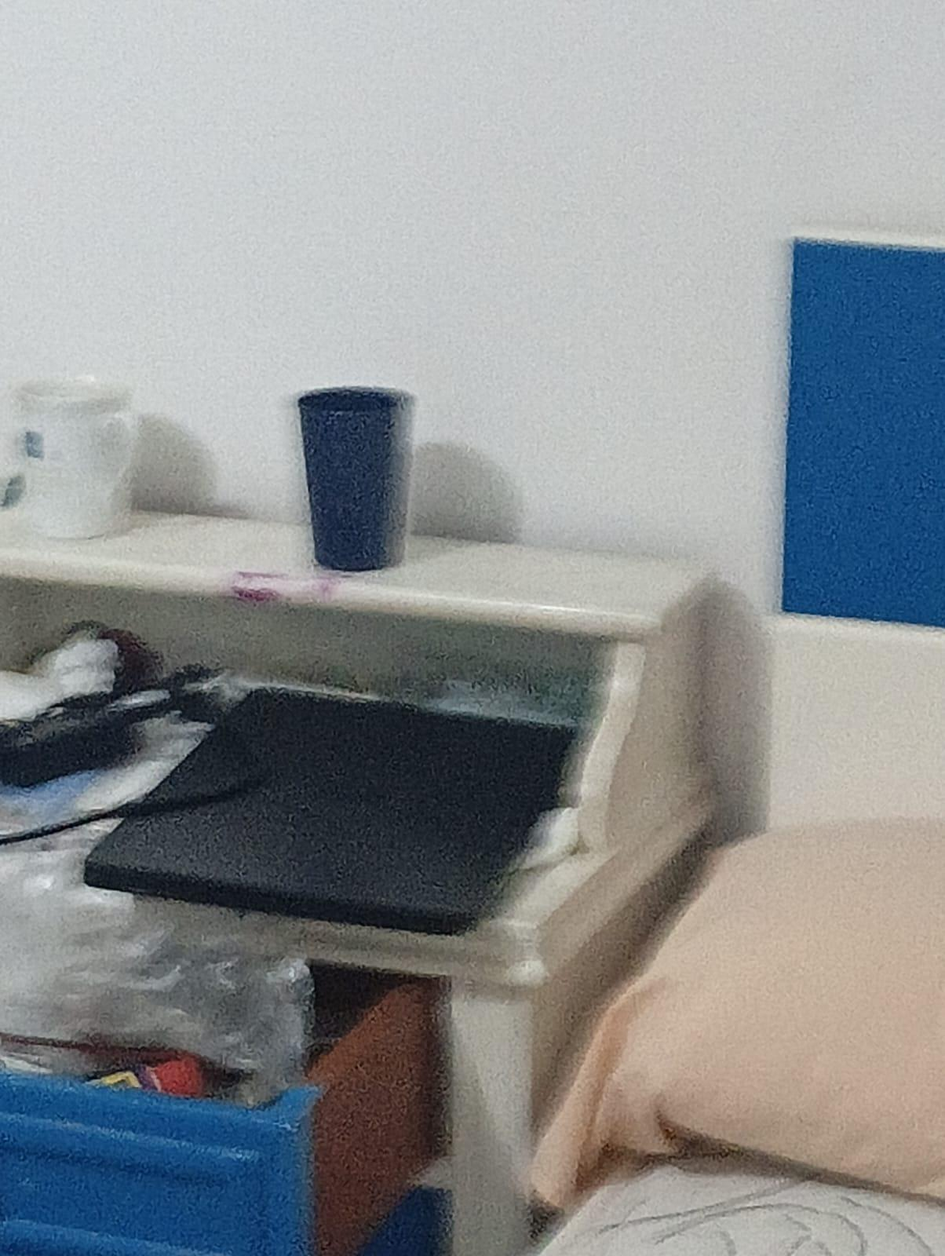cup: (297, 388, 412, 571), (16, 378, 133, 539)
